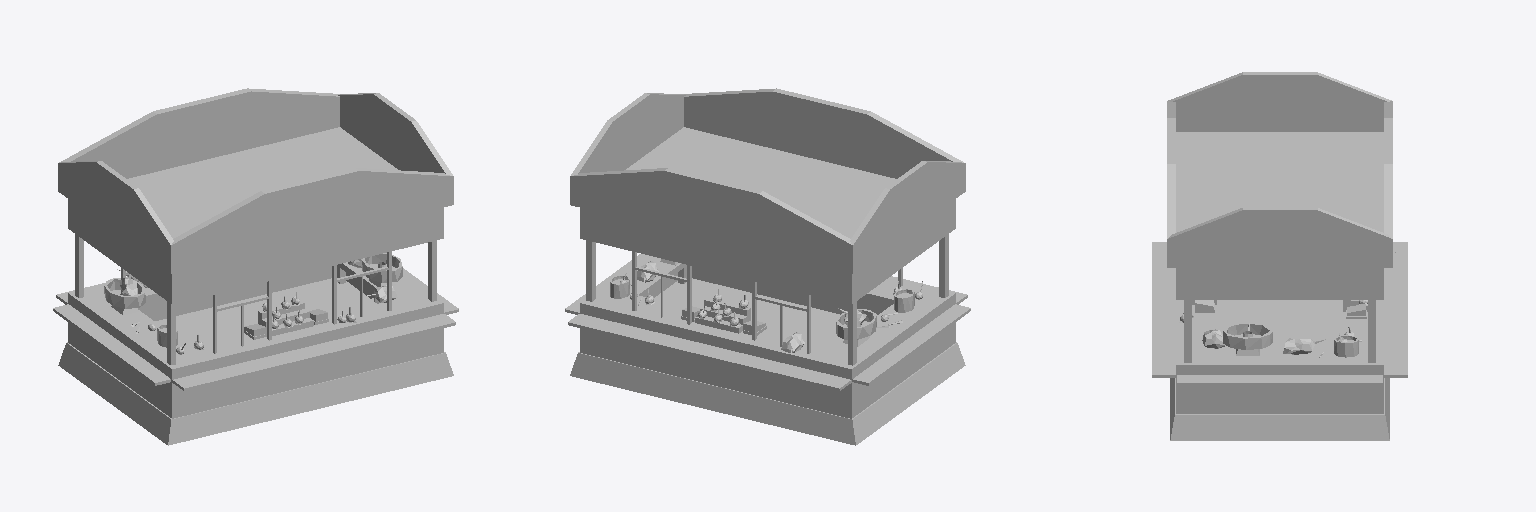
The model's file is cottoncandy.obj.
3 renders of one model, left to right at view 1: azimuth 30°, elevation 25°; view 2: azimuth 150°, elevation 25°; view 3: azimuth 270°, elevation 25°, orthographic.
Visible parts, largest first — view 1: Cube.006_0.001, Cube_0, Cube.001_0, Cube.019_0, Cylinder.001_0, Cube.028_0, Cone.004_0, Cylinder_0; view 2: Cube.006_0.001, Cube_0, Cube.001_0, Cube.019_0, Cube.028_0, Cylinder.001_0, Cone.004_0, Cylinder_0; view 3: Cube.006_0.001, Cube_0, Cube.001_0, Cube.019_0, Cylinder.001_0, Cone.004_0.
Part boxes in pixels (x1,y1,x2,y2): Cube.006_0.001: (58,88,453,273); Cube_0: (68,127,443,418); Cube.001_0: (58,278,453,445); Cube.019_0: (53,251,458,390); Cylinder.001_0: (104,253,402,315); Cube.028_0: (258,300,313,335); Cone.004_0: (117,259,397,333); Cylinder_0: (194,292,356,349); Cube.006_0.001: (570,88,965,273); Cube_0: (580,127,955,418); Cube.001_0: (570,278,965,445); Cube.019_0: (565,252,970,390); Cube.028_0: (695,297,750,333); Cylinder.001_0: (660,259,876,346); Cone.004_0: (637,261,902,353); Cylinder_0: (645,281,902,326); Cube.006_0.001: (1167,72,1392,267); Cube_0: (1176,268,1383,413); Cube.001_0: (1170,300,1389,440); Cube.019_0: (1152,242,1407,385); Cylinder.001_0: (1223,323,1272,355); Cone.004_0: (1202,252,1395,354).
Size of the model in its own units: 14.94 by 10.79 by 10.93.